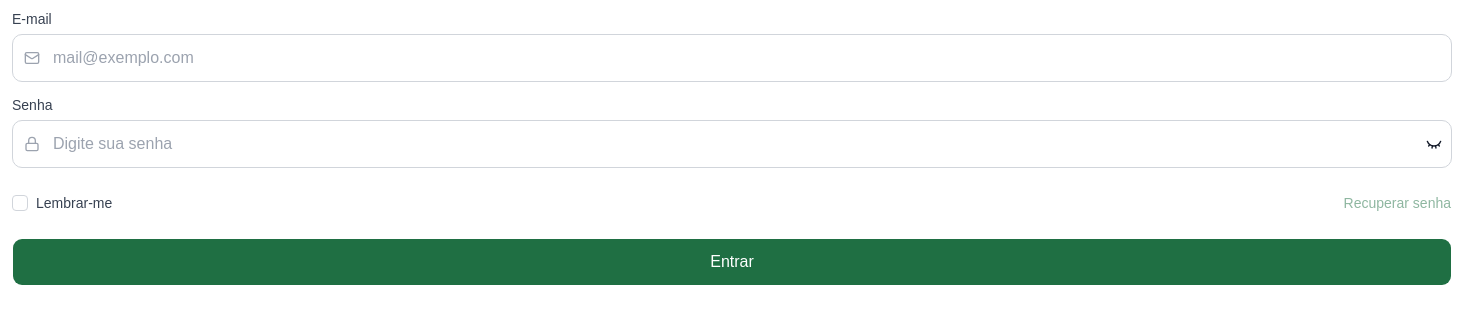
LoginForm › shows "Informe um e-mail válido" for an invalid email
The width and height of the screenshot is (1464, 330).
Type "not-an-email" into the field labelled "E-mail" at (732, 58), box left=12, top=34, right=1452, bottom=82
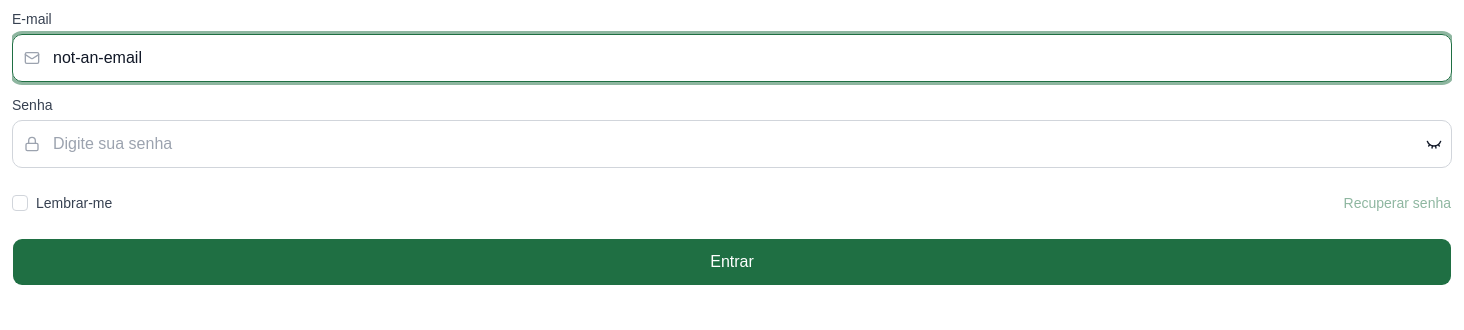
Type "Senha123" into the password field labelled "Senha" at (732, 144), box left=12, top=120, right=1452, bottom=168
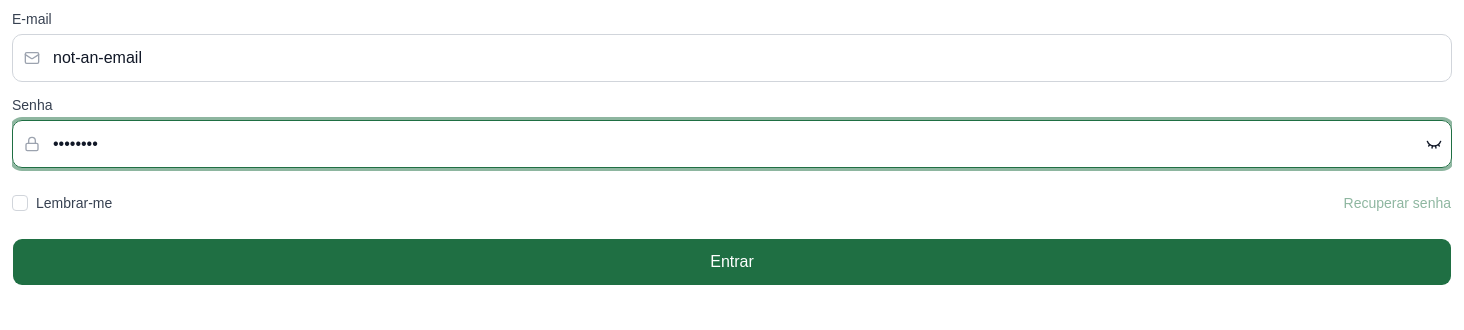
Click the button "Entrar" at (732, 262), box left=12, top=238, right=1452, bottom=286
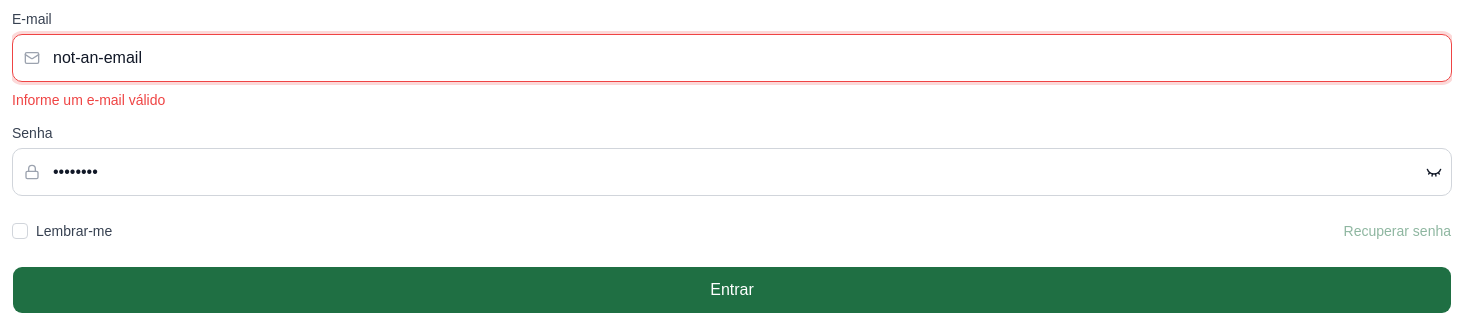
Expected: the text "Informe um e-mail válido" is shown, left=12, top=92, right=165, bottom=108
